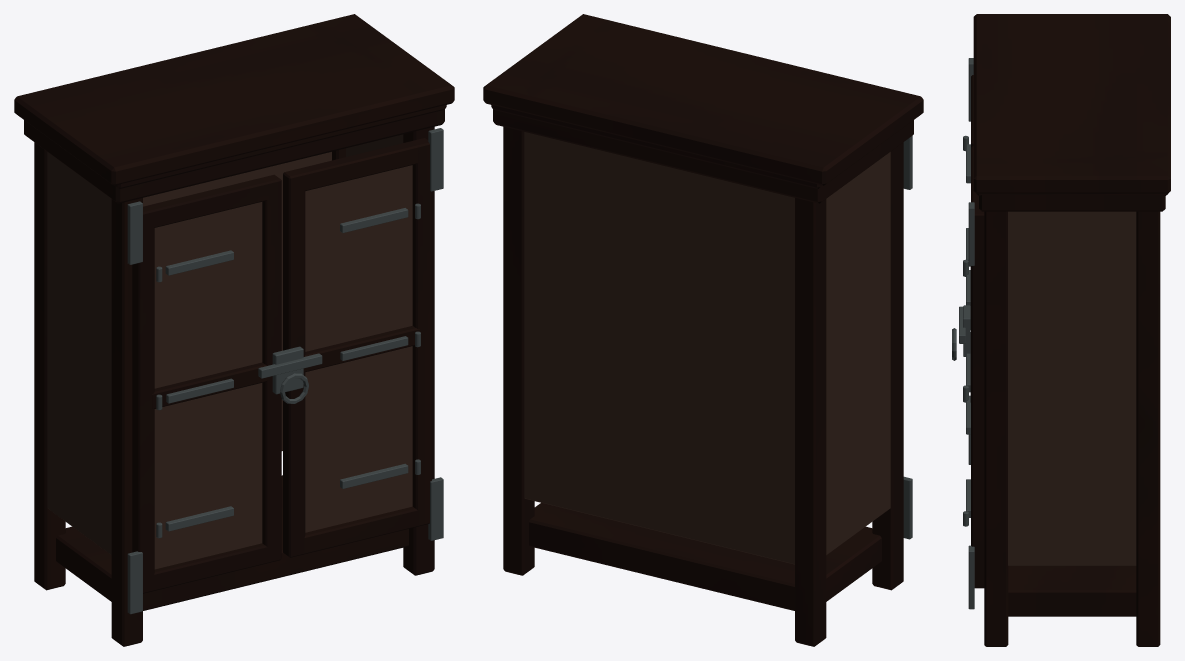
Rendered from elite_armarium.glb.
The picture shows the model from 3 angles, left to right: view 1: azimuth 30°, elevation 25°; view 2: azimuth 150°, elevation 25°; view 3: azimuth 270°, elevation 25°; orthographic projection.
Visible parts, largest first — view 1: EliteArmariumMesh; view 2: EliteArmariumMesh; view 3: EliteArmariumMesh.
Boxes of the visible parts, x1,y1,x2,y2 form: EliteArmariumMesh: (14, 14, 454, 646); EliteArmariumMesh: (483, 14, 923, 646); EliteArmariumMesh: (952, 14, 1170, 646).
Size of the model in its own units: 1.46 by 1.98 by 0.8207.
3 materials, 1 textured.
